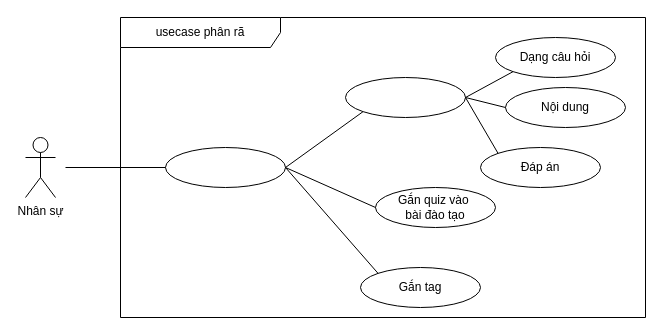
The diagram is 663 pixels wide and 335 high, and some of its shapes have lost their labels. The shapes that lost their labels are listed below. From the top down, each one's centre as x and y in pixels, then its label:
At (x=405, y=97): "Tạo câu hỏi".
At (x=225, y=167): "Tạo quiz".
